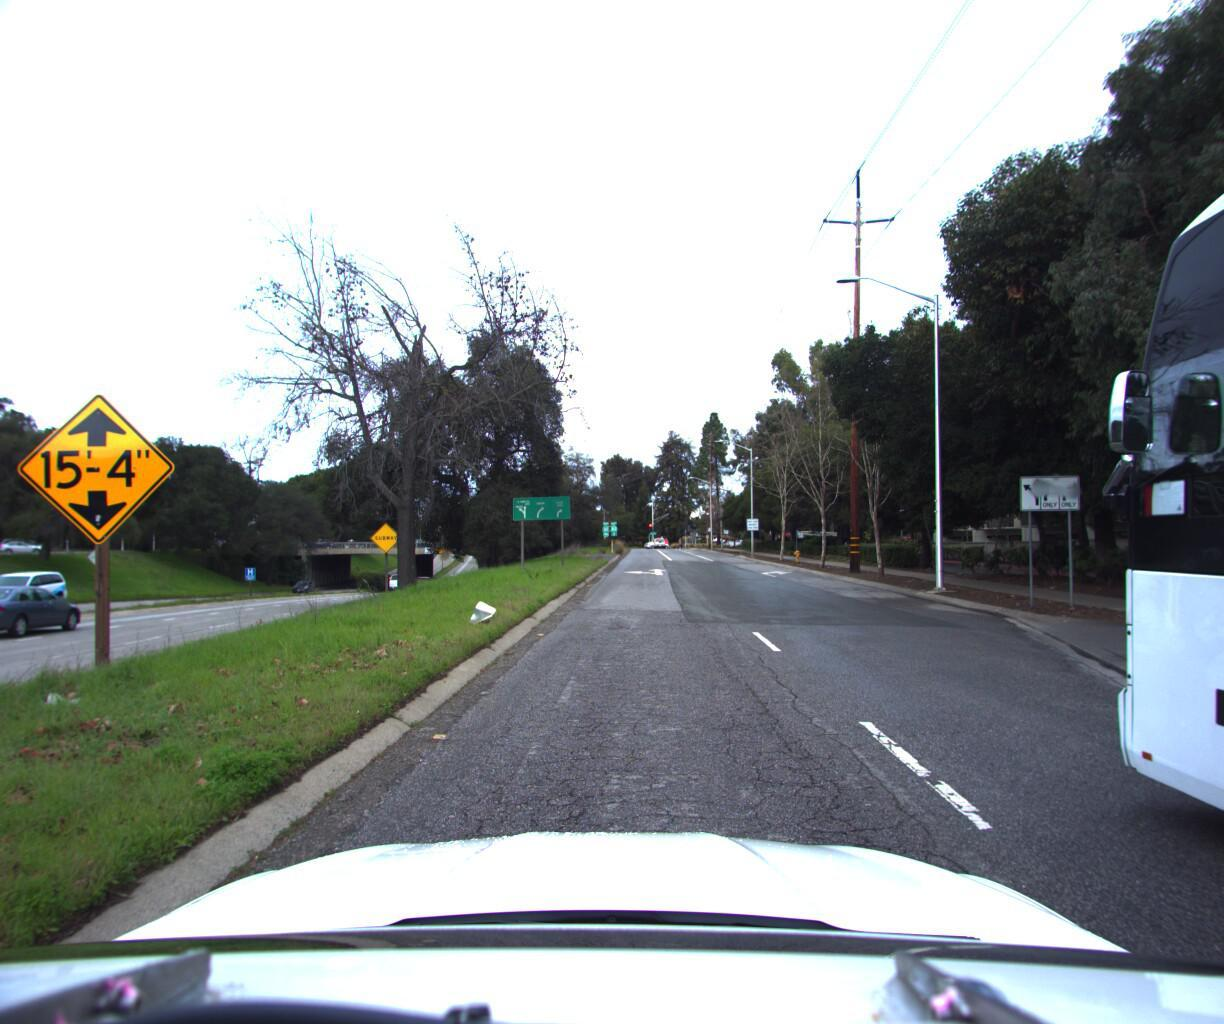car: (0, 578, 95, 645), (0, 567, 79, 616)
